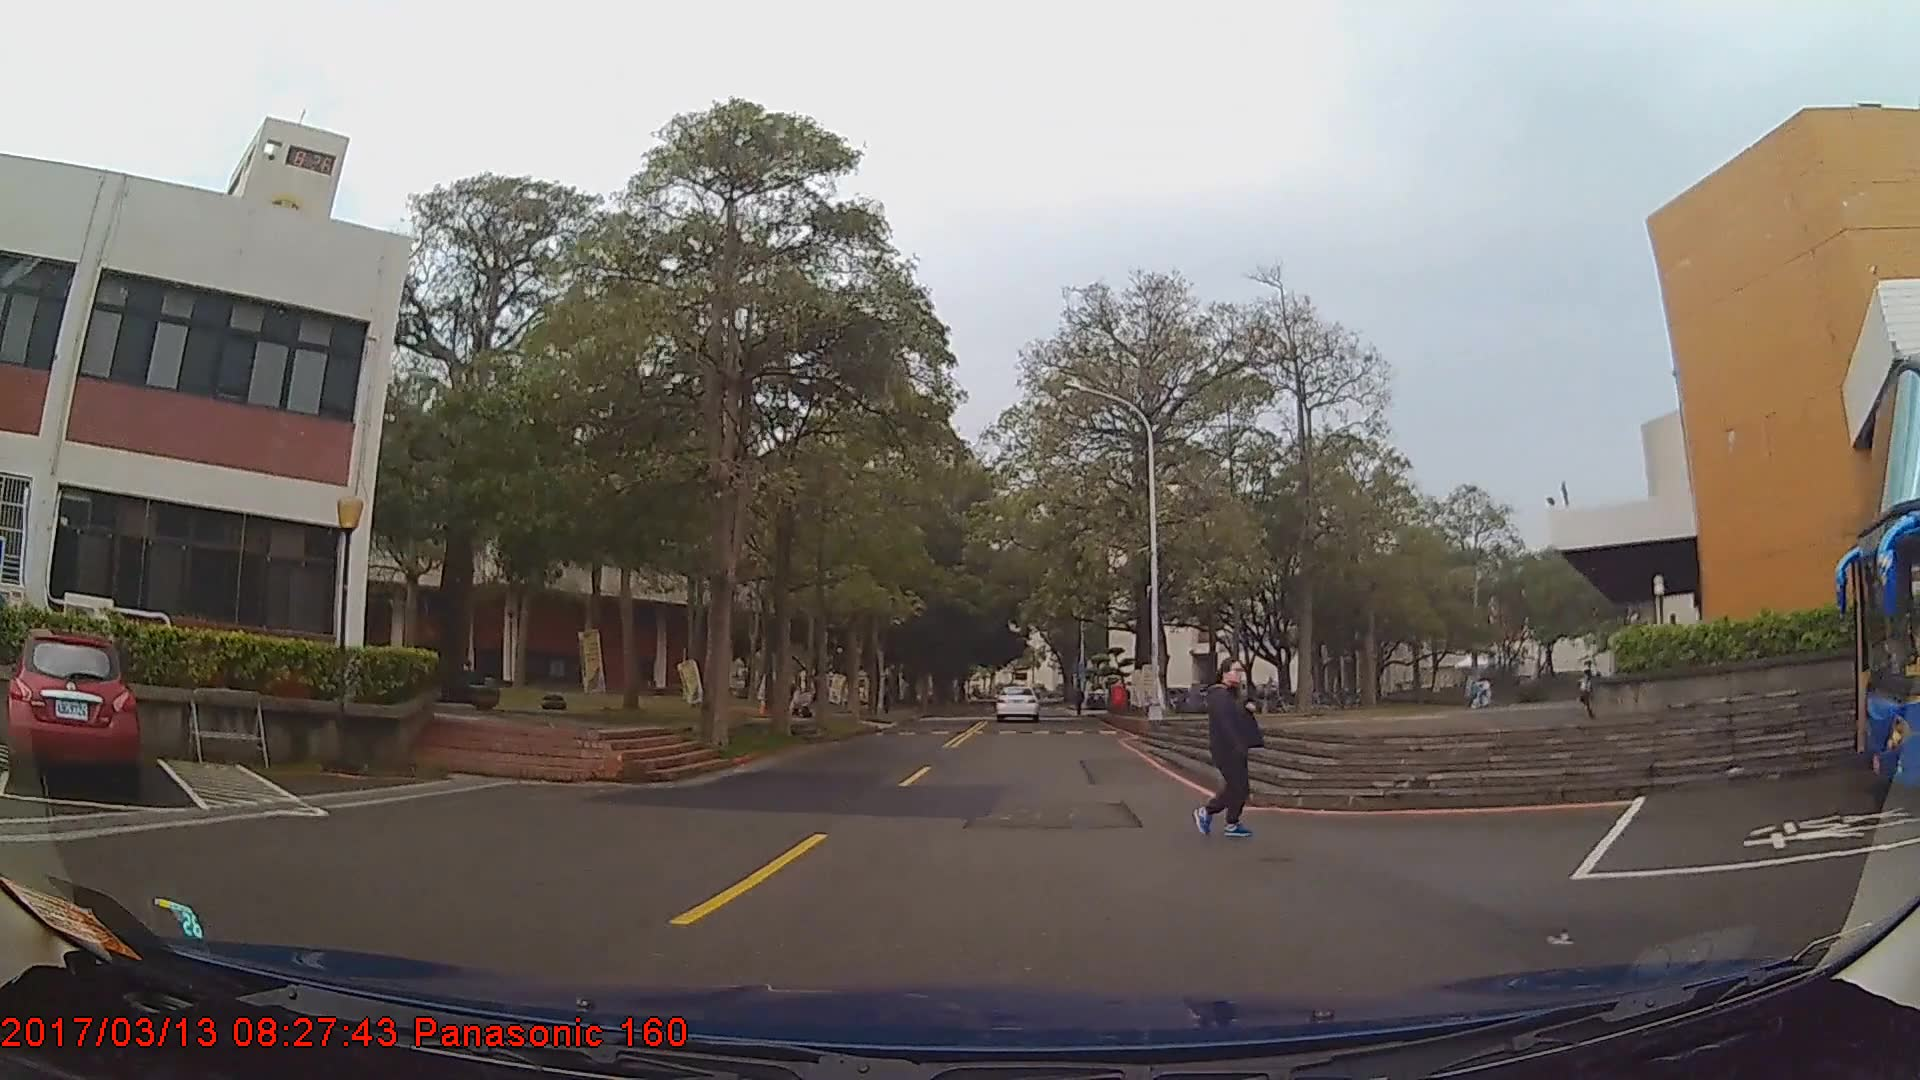pedestrian: (1198, 656, 1271, 836)
vehicle: (6, 627, 140, 790), (994, 681, 1038, 719)
